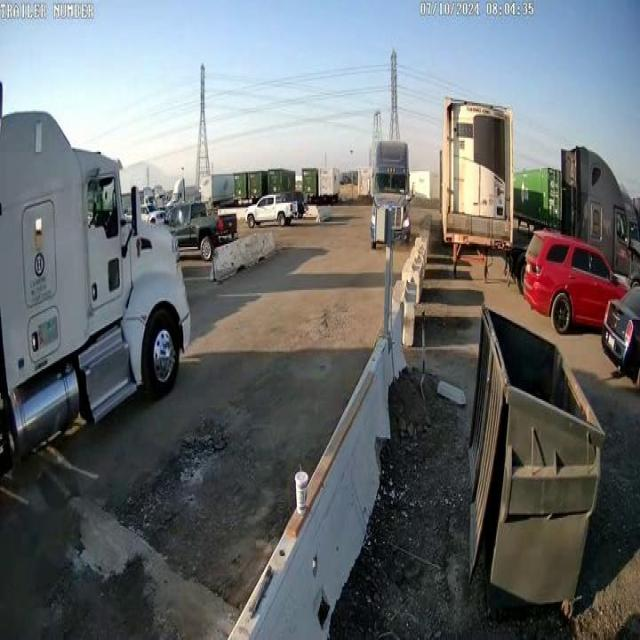TRUCK_IN: (1, 106, 192, 474)
